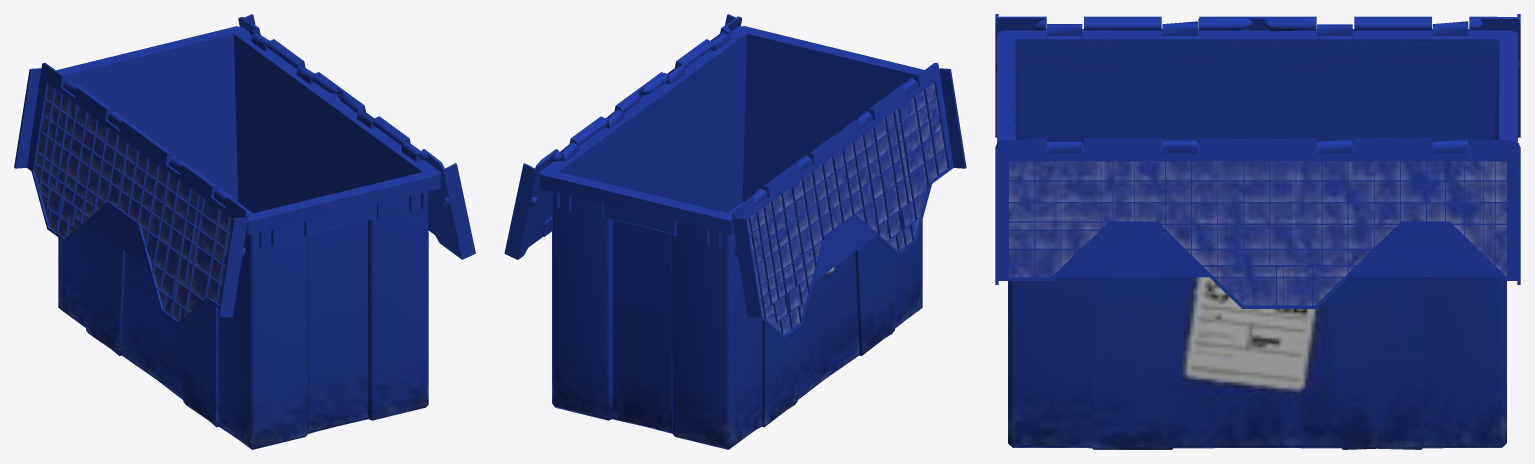
File: trash_can.glb
The picture shows the model from 3 angles, left to right: view 1: azimuth 30°, elevation 25°; view 2: azimuth 150°, elevation 25°; view 3: azimuth 270°, elevation 25°; orthographic projection. The views are drawn at different scales.
Size of the model in its own units: 0.4572 by 0.4188 by 0.6314.
1 material, 1 textured.
